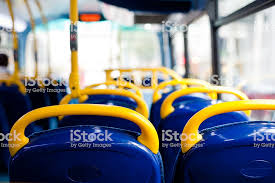seat: (11, 101, 165, 181)
